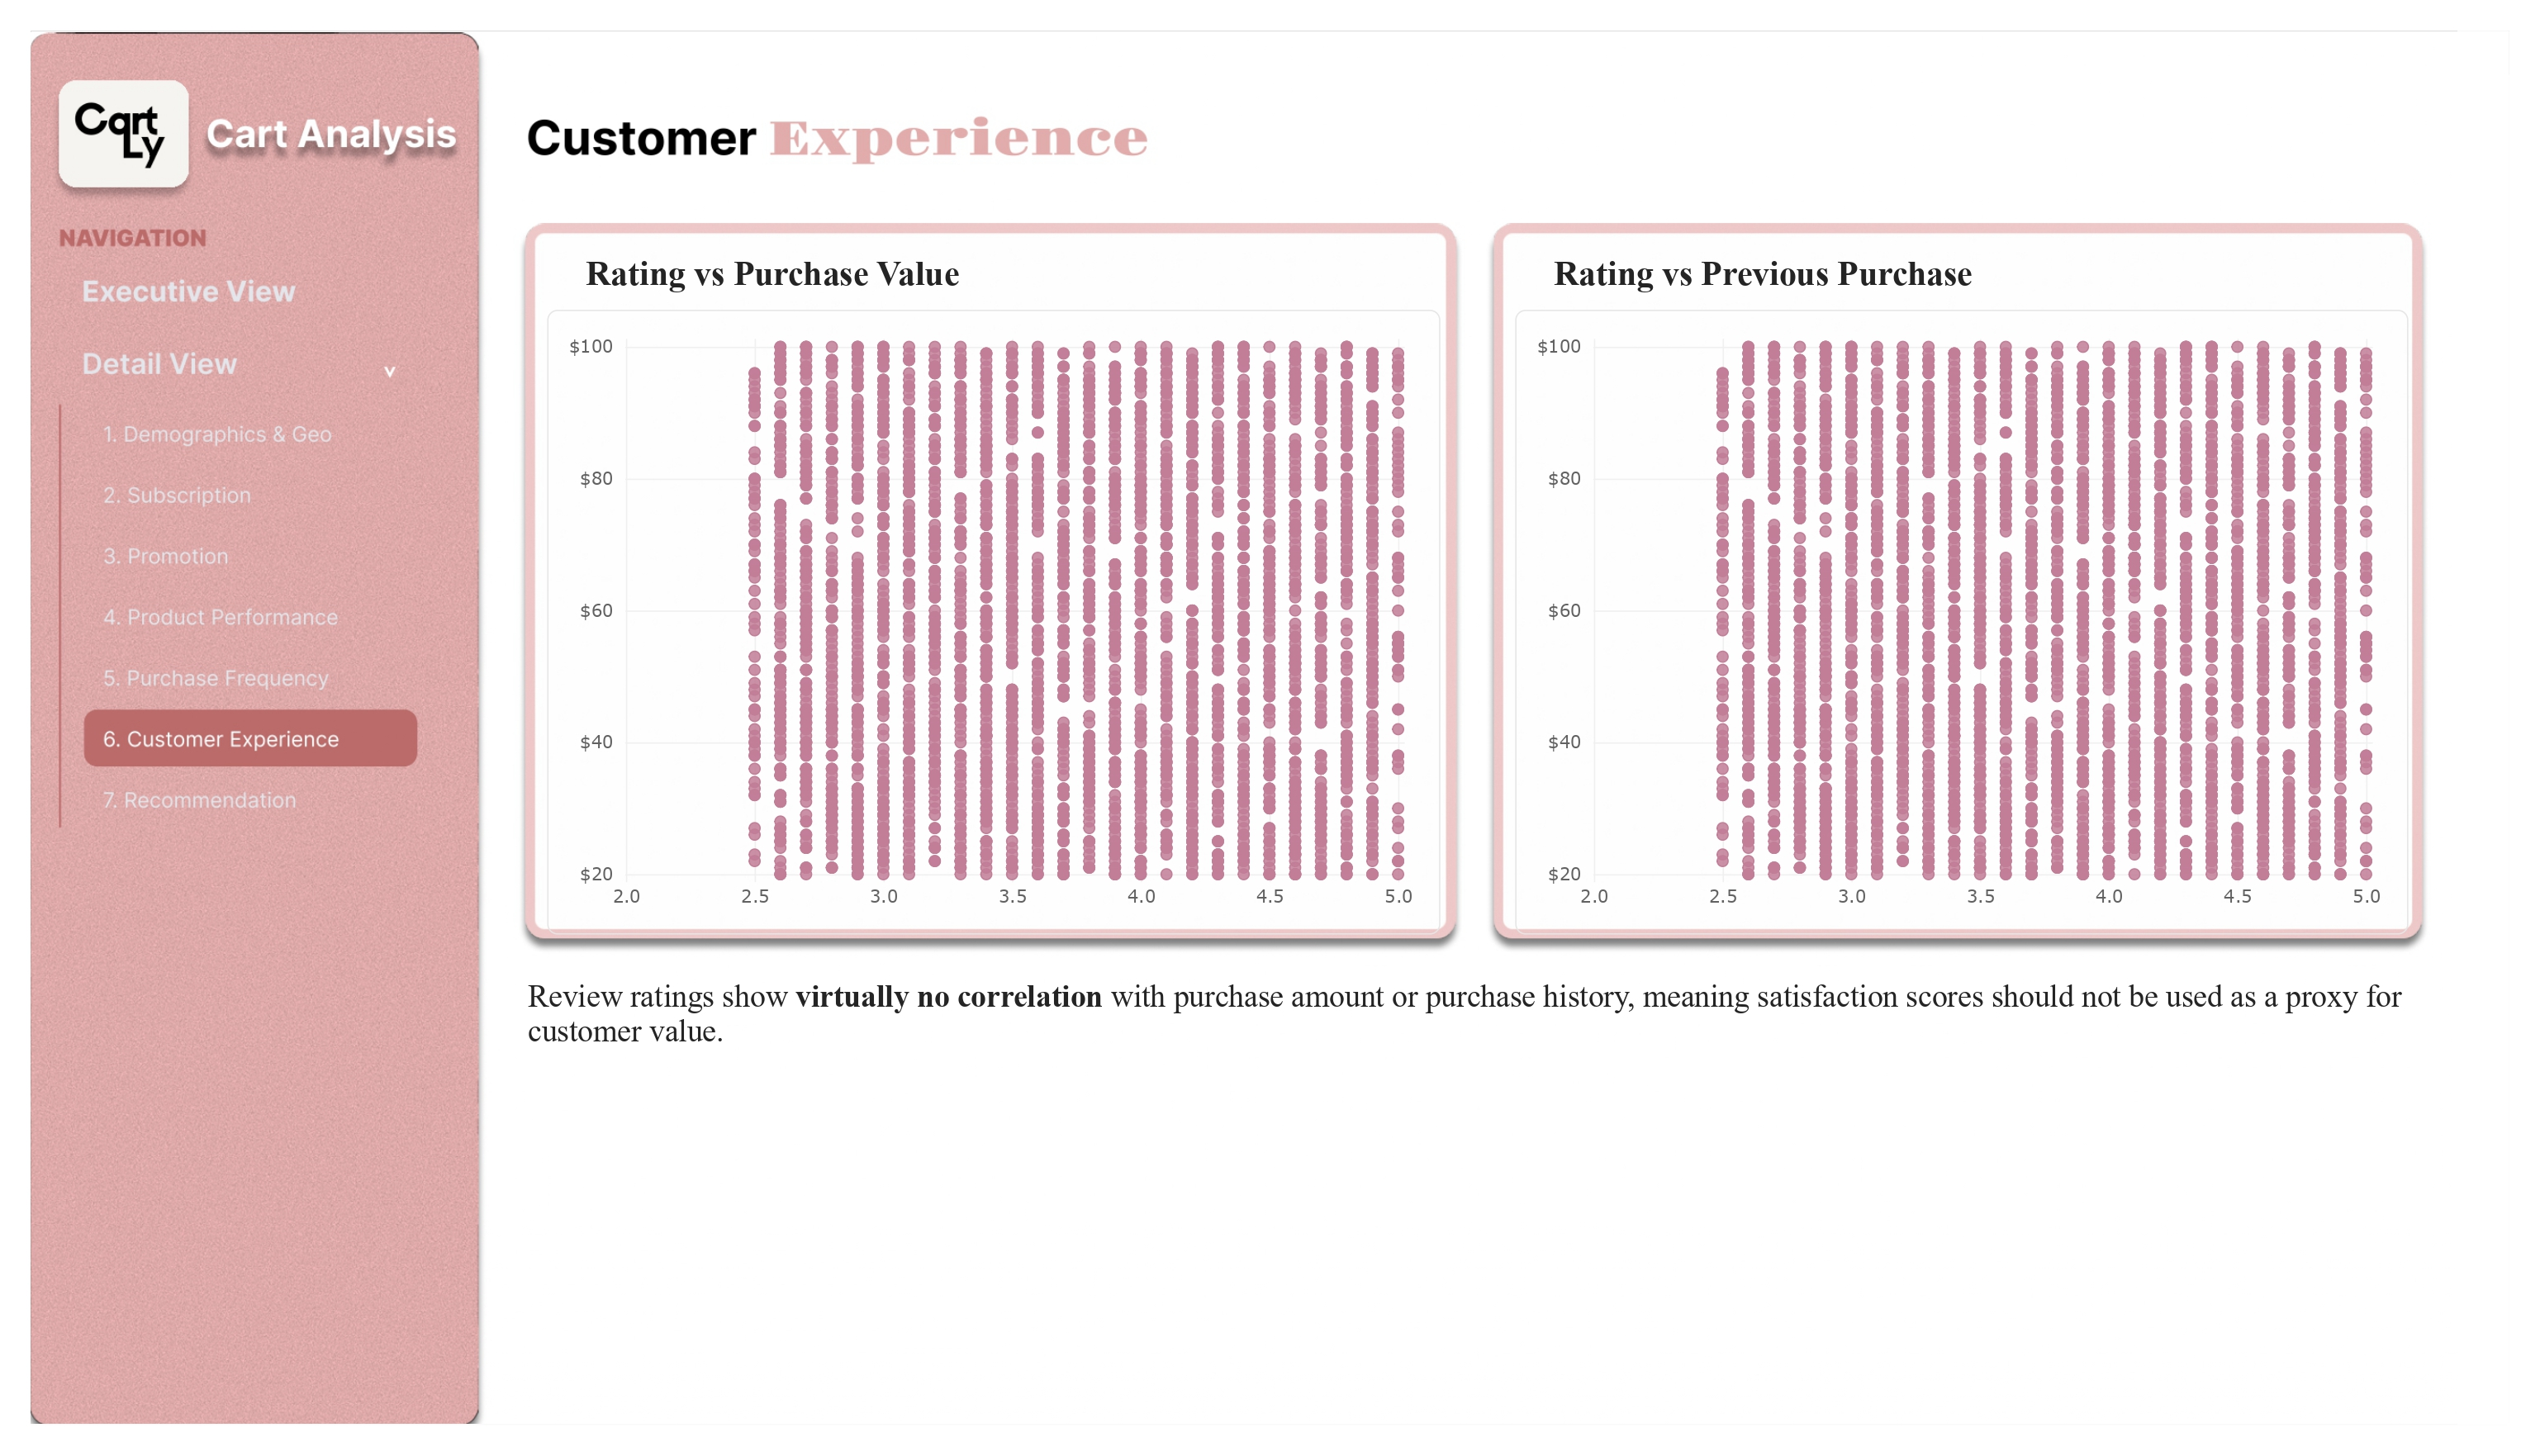

The dashboard page shown, as its layout file describes it:
{"tool":"powerbi","page":{"name":"Customer Page","canvas":[1920,1080],"ordinal":6},"visuals":[{"type":"image","box":[0,0,1890,1080],"z":0},{"type":"actionButton","box":[21.8,172.9,280.9,52.7],"z":0,"group":"g1"},{"type":"scatterChart","fields":{"Category":["Customer_Shopping_Behavior_Clean_Update2.customer_id"],"X":["Sum(Customer_Shopping_Behavior_Clean_Update2.review_rating)"],"Y":["Sum(Customer_Shopping_Behavior_Clean_Update2.purchase_amount_usd)"]},"box":[400,216,692,484],"z":1000},{"type":"actionButton","box":[21.9,231.2,281,52],"z":1000,"group":"g1"},{"type":"scatterChart","fields":{"Category":["Customer_Shopping_Behavior_Clean_Update2.customer_id"],"X":["Sum(Customer_Shopping_Behavior_Clean_Update2.review_rating)"],"Y":["Sum(Customer_Shopping_Behavior_Clean_Update2.purchase_amount_usd)"]},"box":[1150,216,692,484],"z":2000},{"type":"actionButton","box":[40.9,287.7,260.5,46],"z":2000,"group":"g1"},{"type":"textbox","box":[430,173,495.7,35.7],"z":3000},{"type":"actionButton","box":[40.9,334.6,260.4,46.1],"z":3000,"group":"g1"},{"type":"textbox","box":[1180,173,580,32.9],"z":4000},{"type":"actionButton","box":[40.9,383.1,260,46.1],"z":4000,"group":"g1"},{"type":"actionButton","box":[40.9,432.8,260,46],"z":5000,"group":"g1"},{"type":"textbox","box":[385,735,1460,126],"z":5000},{"type":"group","id":"g1","title":"Side Bar","box":[21.8,172.9,280.6,445.3],"z":6000},{"type":"actionButton","box":[40.9,480.4,260,46],"z":6000,"group":"g1"},{"type":"shape","box":[1880,0,40,1080],"z":6001},{"type":"actionButton","box":[40.9,526.4,260,46],"z":7000,"group":"g1"},{"type":"actionButton","box":[40.9,572.5,260,46],"z":8000,"group":"g1"}]}

Visuals, with their boxes on the page's 1920x1080 design canvas (x1, y1, x2, y2). These are canvas units, not pixel positions in the 2540x1456 screenshot, which may show the page scaled, cropped or inside an application window:
image: select_region(0, 0, 1890, 1080)
actionButton: select_region(22, 173, 303, 226)
scatterChart - Customer_Shopping_Behavior_Clean_Update2.customer_id x Sum(Customer_Shopping_Behavior_Clean_Update2.review_rating): select_region(400, 216, 1092, 700)
actionButton: select_region(22, 231, 303, 283)
scatterChart - Customer_Shopping_Behavior_Clean_Update2.customer_id x Sum(Customer_Shopping_Behavior_Clean_Update2.review_rating): select_region(1150, 216, 1842, 700)
actionButton: select_region(41, 288, 301, 334)
textbox: select_region(430, 173, 926, 209)
actionButton: select_region(41, 335, 301, 381)
textbox: select_region(1180, 173, 1760, 206)
actionButton: select_region(41, 383, 301, 429)
actionButton: select_region(41, 433, 301, 479)
textbox: select_region(385, 735, 1845, 861)
"Side Bar" group: select_region(22, 173, 302, 618)
actionButton: select_region(41, 480, 301, 526)
shape: select_region(1880, 0, 1920, 1080)
actionButton: select_region(41, 526, 301, 572)
actionButton: select_region(41, 572, 301, 618)
